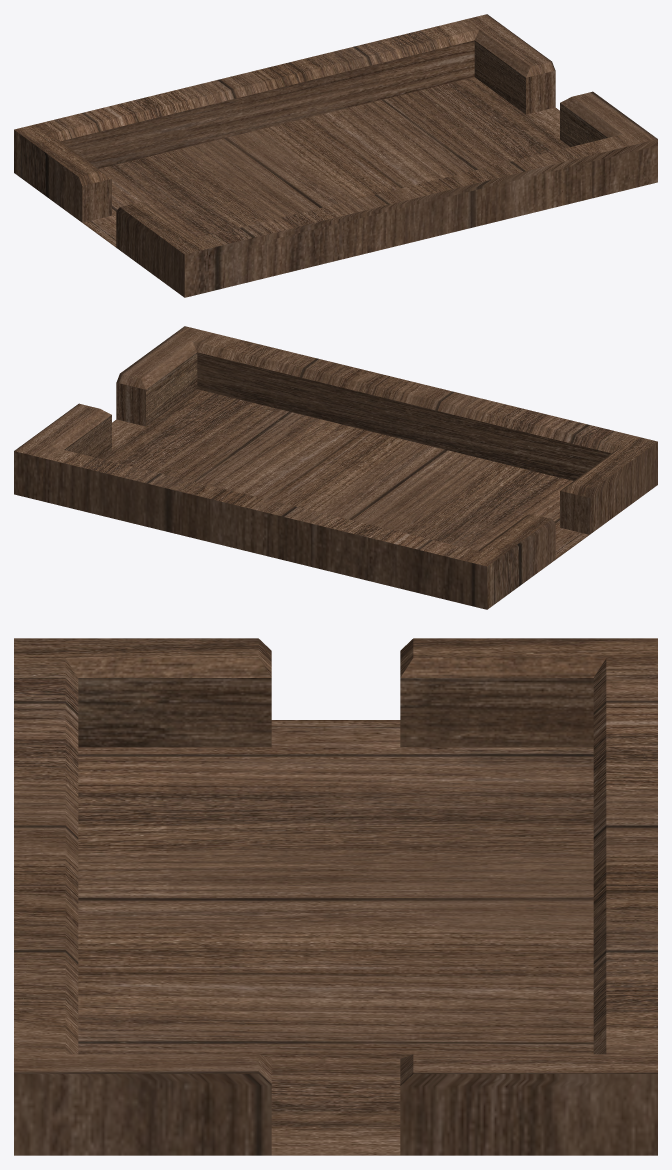
File: room5.fbx
The picture shows the model from 3 angles, top to bottom: view 1: azimuth 30°, elevation 25°; view 2: azimuth 150°, elevation 25°; view 3: azimuth 270°, elevation 25°; orthographic projection. The views are drawn at different scales.
Visible parts, largest first — view 1: Room34Mesh; view 2: Room34Mesh; view 3: Room34Mesh.
Boxes of the visible parts, bbox=[...] form: Room34Mesh: bbox=[14, 14, 657, 297]; Room34Mesh: bbox=[14, 326, 657, 609]; Room34Mesh: bbox=[14, 638, 657, 1155].
Size of what is drawn, in the model's own units: 80 by 7 by 50.
